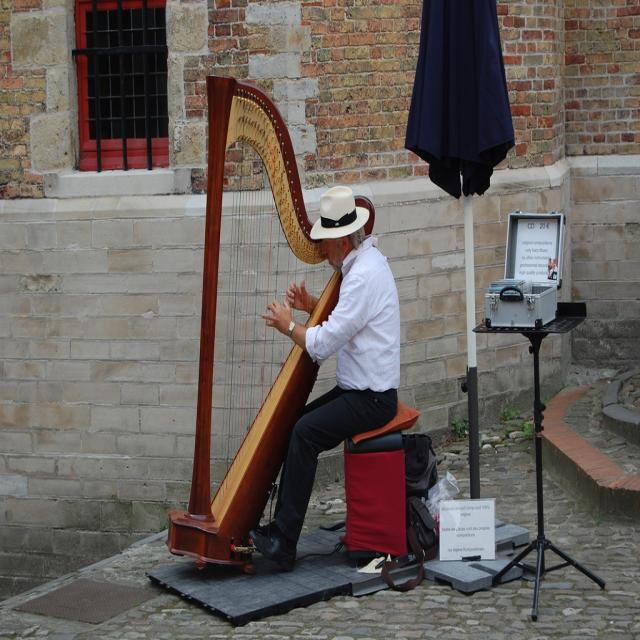harp: (165, 73, 376, 575)
